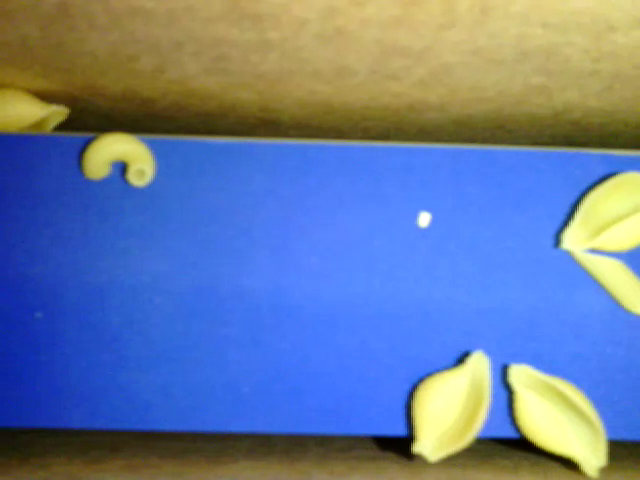elbow: (73, 126, 161, 185)
penne: (567, 248, 639, 319)
shell: (503, 362, 609, 478), (410, 350, 491, 464), (556, 168, 639, 253), (2, 79, 74, 138)
